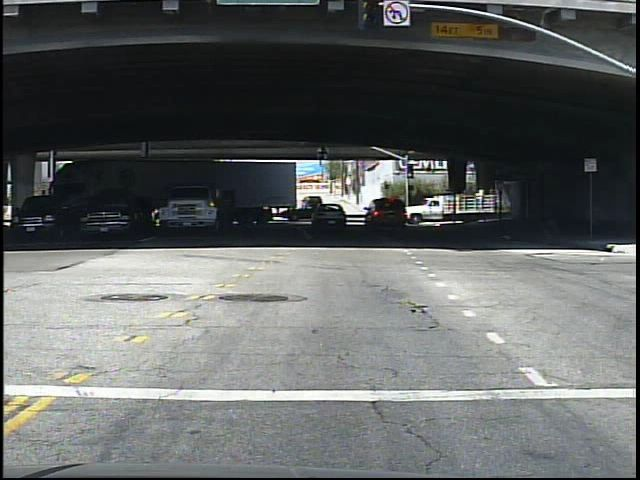car: (159, 184, 222, 235), (82, 184, 145, 235), (12, 186, 75, 237), (307, 199, 351, 230), (363, 198, 407, 229)
strada: (6, 249, 637, 471)
